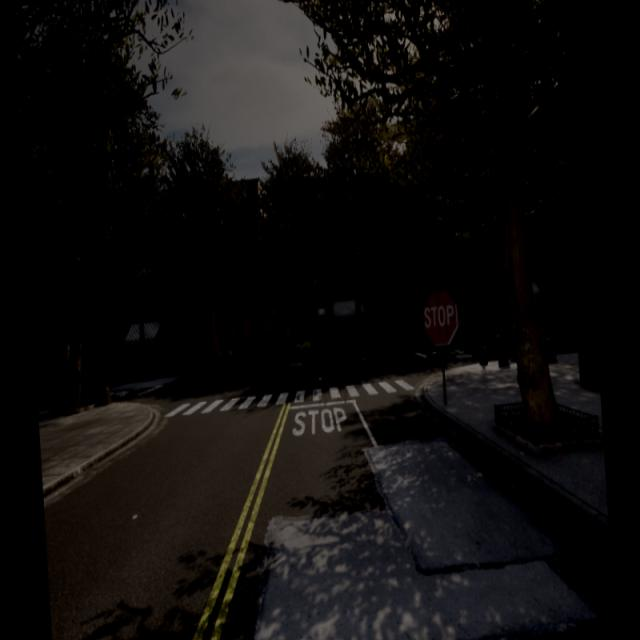stop sign: (420, 288, 460, 349)
